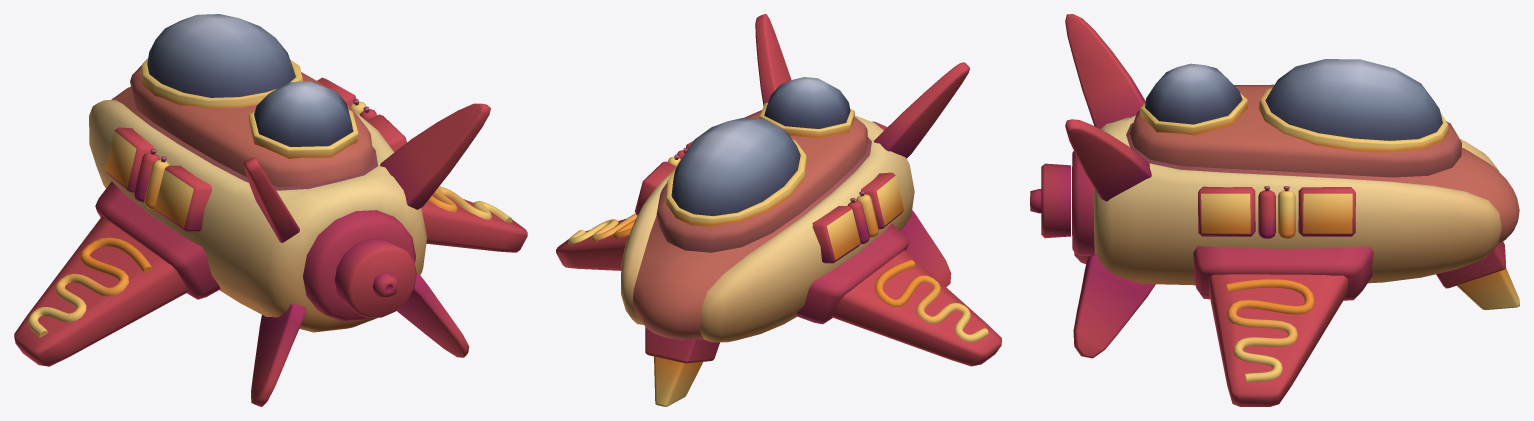
File: SM_HotdogTrip.fbx
The picture shows the model from 3 angles, left to right: view 1: azimuth 30°, elevation 25°; view 2: azimuth 150°, elevation 25°; view 3: azimuth 270°, elevation 25°; orthographic projection. The views are drawn at different scales.
Parts seen in each view (by area): view 1: SM_SpaceShip; view 2: SM_SpaceShip; view 3: SM_SpaceShip.
Part boxes in pixels (x1,y1,x2,y2): SM_SpaceShip: (14,14,527,406); SM_SpaceShip: (556,14,1001,406); SM_SpaceShip: (1030,14,1519,406).
Bounding box in the file's own units: 124 × 61.9 × 112.
